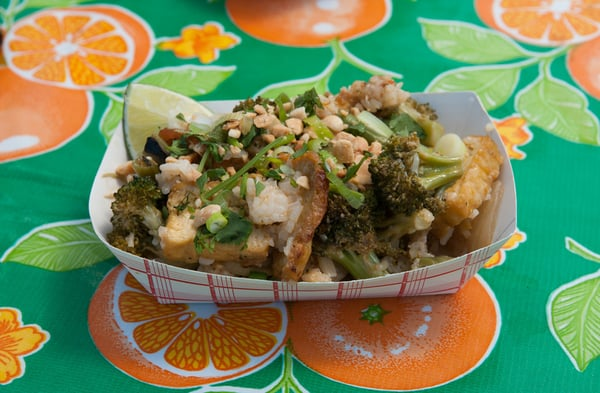curry: (110, 175, 164, 251)
sushi: (90, 70, 533, 307)
taco: (1, 5, 152, 91)
